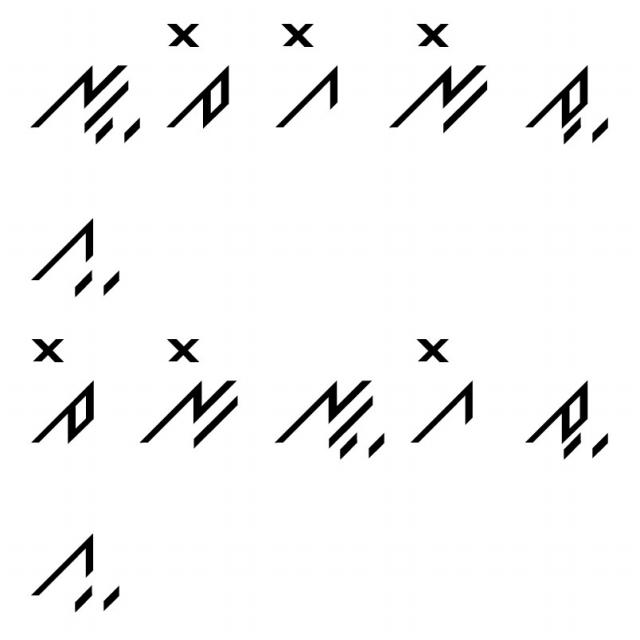gah: (25, 203, 128, 298), (26, 523, 124, 617)
go: (264, 20, 346, 133), (407, 328, 479, 446)
ngah: (26, 53, 145, 149), (277, 371, 388, 462)
ngo: (383, 16, 493, 138), (140, 327, 242, 454)
tah: (517, 368, 613, 464), (516, 61, 614, 151)
to: (15, 331, 101, 451), (158, 15, 234, 134)
